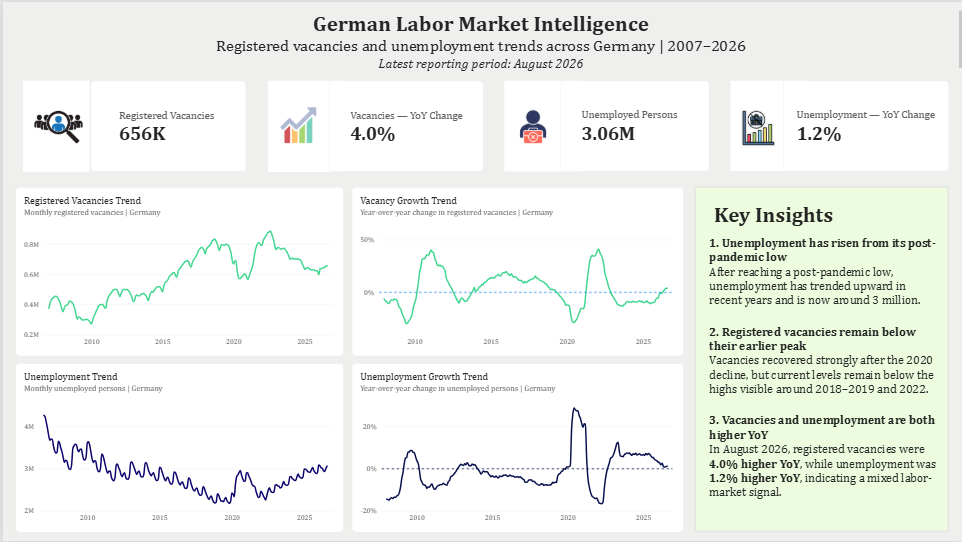

What the dashboard file says about the page in this screenshot:
{"tool":"powerbi","page":{"name":"Executive Overview","canvas":[1920,1080],"ordinal":0},"visuals":[{"type":"shape","box":[1454,158.6,151.7,180.5],"z":0},{"type":"shape","box":[1003.4,157.5,151.7,181.6],"z":1000},{"type":"shape","box":[531,157.5,151.7,182.8],"z":2000},{"type":"shape","box":[41,156.4,133.3,182.1],"z":3000},{"type":"shape","box":[1383.2,368.4,510.5,693.7],"z":4000},{"type":"textbox","box":[1413.2,382.5,460,652.5],"z":5000},{"type":"lineChart","title":"Registered Vacancies Trend","fields":{"Category":["DimDate.Date"],"Y":["Fact_Vacancies_DE.Registered Vacancies"]},"box":[25.6,369.2,656.4,338.5],"z":6000},{"type":"lineChart","title":"Vacancy Growth Trend","fields":{"Category":["DimDate.Date"],"Y":["Fact_Vacancies_DE.YoY Vacancy Change %"]},"box":[697.4,369.2,664.1,338.5],"z":7000},{"type":"cardVisual","fields":{"Data":["Fact_Vacancies_DE.Latest YoY Vacancy Change %"]},"box":[651.7,157.5,308,182.8],"z":8000},{"type":"cardVisual","fields":{"Data":["Fact_Unemployment_DE.Latest Unemployed Persons"]},"box":[1113.8,157.5,298.9,181.6],"z":9000},{"type":"cardVisual","fields":{"Data":["Fact_Unemployment_DE.Latest YoY Unemployment Change %"]},"box":[1559.8,158.6,332.2,181.6],"z":10000},{"type":"lineChart","title":"Unemployment Trend","fields":{"Category":["DimDate.Date"],"Y":["Fact_Unemployment_DE.Unemployed Persons"]},"box":[25.6,723.1,656.4,338.5],"z":11000},{"type":"textbox","box":[0,17.8,1920,124.4],"z":12000},{"type":"lineChart","title":"Unemployment Growth Trend","fields":{"Category":["DimDate.Date"],"Y":["Fact_Unemployment_DE.YoY Unemployment Change %"]},"box":[697.4,723.1,664.1,338.5],"z":13000},{"type":"image","box":[54.3,197.1,111.4,105.7],"z":14000},{"type":"cardVisual","fields":{"Data":["Fact_Vacancies_DE.Latest Registered Vacancies"]},"box":[174.3,157.1,311.4,182.9],"z":15000},{"type":"image","box":[549.4,203.4,81.6,88.5],"z":16000},{"type":"image","box":[1025.3,214.9,70.1,69],"z":17000},{"type":"image","box":[1463.2,212.6,96.6,79.3],"z":18000}]}

Visuals, with their boxes in screenshot pixels (x1, y1, x2, y2), scaled from the page's 1920x1080 canvas onto the 962x542 screenshot:
shape: 729, 80, 805, 170
shape: 503, 79, 579, 170
shape: 266, 79, 342, 171
shape: 21, 78, 87, 170
shape: 693, 185, 949, 533
textbox: 708, 192, 939, 519
"Registered Vacancies Trend" lineChart: 13, 185, 342, 355
"Vacancy Growth Trend" lineChart: 349, 185, 682, 355
cardVisual - Fact_Vacancies_DE.Latest YoY Vacancy Change %: 327, 79, 481, 171
cardVisual - Fact_Unemployment_DE.Latest Unemployed Persons: 558, 79, 708, 170
cardVisual - Fact_Unemployment_DE.Latest YoY Unemployment Change %: 782, 80, 948, 171
"Unemployment Trend" lineChart: 13, 363, 342, 533
textbox: 0, 9, 961, 71
"Unemployment Growth Trend" lineChart: 349, 363, 682, 533
image: 27, 99, 83, 152
cardVisual - Fact_Vacancies_DE.Latest Registered Vacancies: 87, 79, 243, 171
image: 275, 102, 316, 146
image: 514, 108, 549, 142
image: 733, 107, 782, 146
